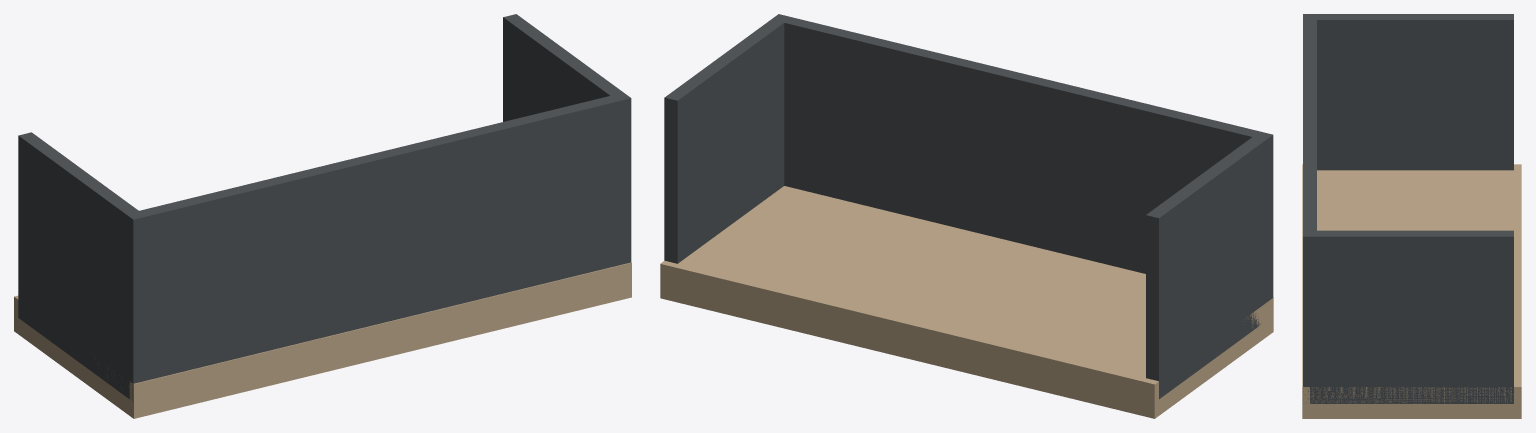
File: bh_villa_balcony_01_lod0.glb
3 renders of one model, left to right at view 1: azimuth 30°, elevation 25°; view 2: azimuth 150°, elevation 25°; view 3: azimuth 270°, elevation 25°, orthographic. The views are drawn at different scales.
Visible parts, largest first — view 1: bh_villa_balcony_01_rail_front, bh_villa_balcony_01_rail_left, bh_villa_balcony_01_slab, bh_villa_balcony_01_rail_right; view 2: bh_villa_balcony_01_rail_front, bh_villa_balcony_01_slab, bh_villa_balcony_01_rail_left, bh_villa_balcony_01_rail_right; view 3: bh_villa_balcony_01_rail_right, bh_villa_balcony_01_rail_left, bh_villa_balcony_01_slab, bh_villa_balcony_01_rail_front.
Boxes of the visible parts, x1,y1,x2,y2 form: bh_villa_balcony_01_rail_front: [125, 92, 631, 401]; bh_villa_balcony_01_rail_left: [18, 132, 141, 398]; bh_villa_balcony_01_slab: [14, 262, 631, 418]; bh_villa_balcony_01_rail_right: [503, 14, 623, 121]; bh_villa_balcony_01_rail_front: [771, 14, 1273, 299]; bh_villa_balcony_01_slab: [660, 186, 1273, 418]; bh_villa_balcony_01_rail_left: [1146, 137, 1269, 399]; bh_villa_balcony_01_rail_right: [664, 17, 787, 263]; bh_villa_balcony_01_rail_right: [1310, 230, 1513, 403]; bh_villa_balcony_01_rail_left: [1310, 14, 1513, 170]; bh_villa_balcony_01_slab: [1302, 164, 1521, 418]; bh_villa_balcony_01_rail_front: [1303, 14, 1316, 403].
Size of the model in its own units: 3 by 1.14 by 1.25.
